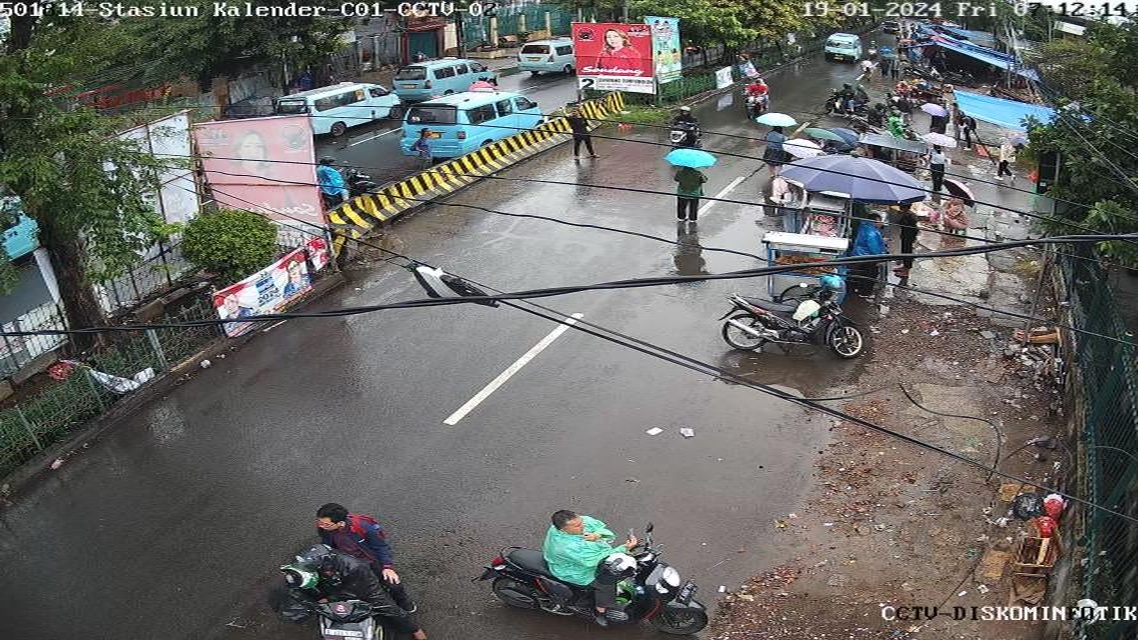Gerobak: (743, 234, 855, 307), (798, 190, 861, 239), (861, 130, 926, 171)
